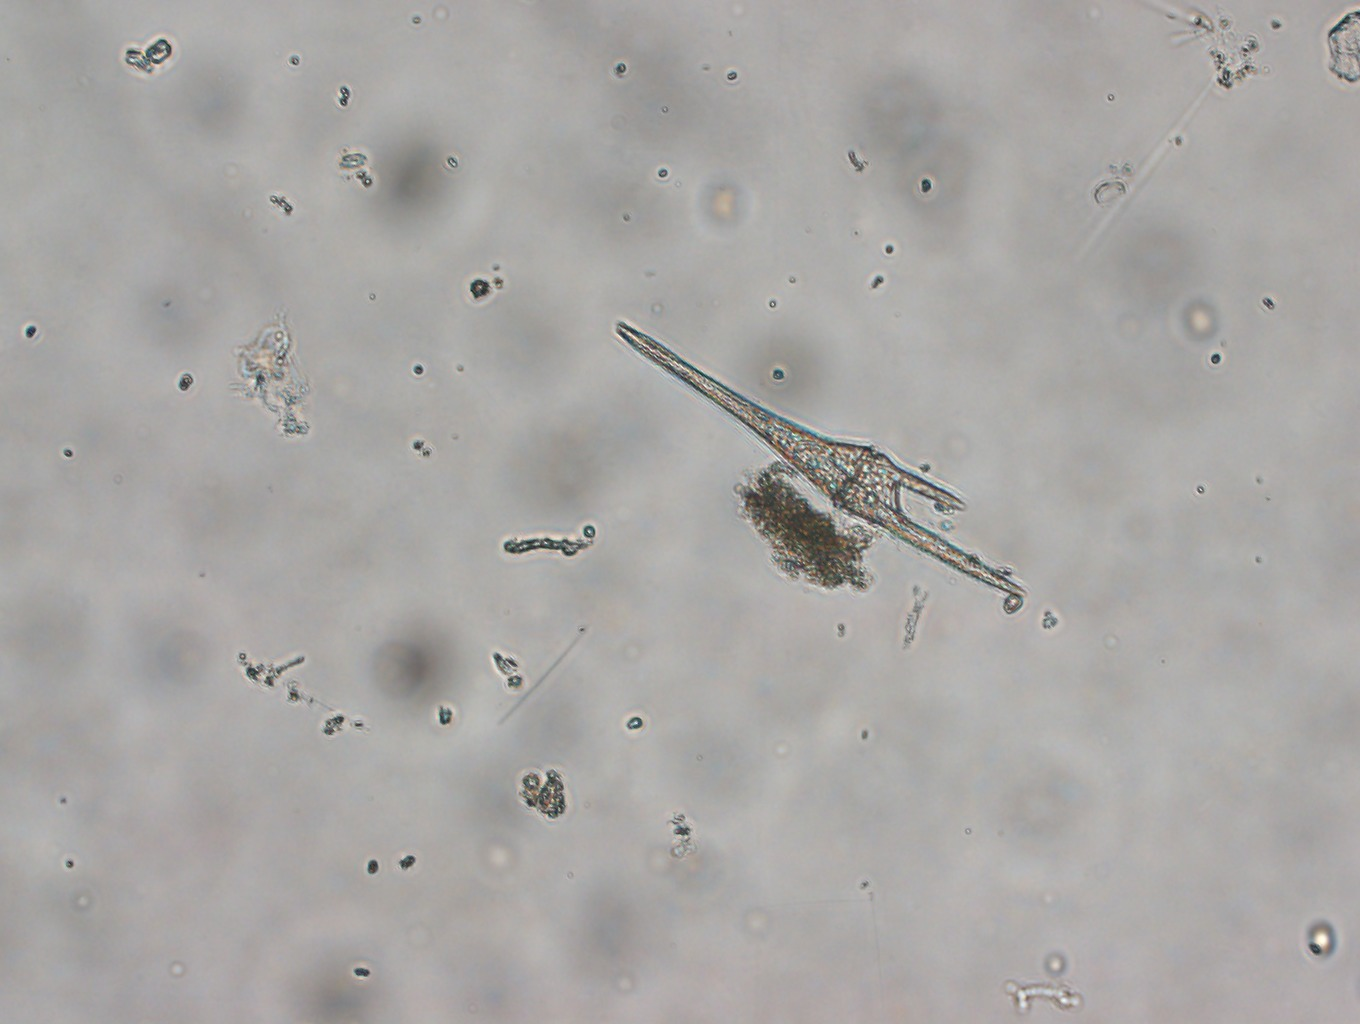ceratium furca: (610, 321, 1029, 599)
